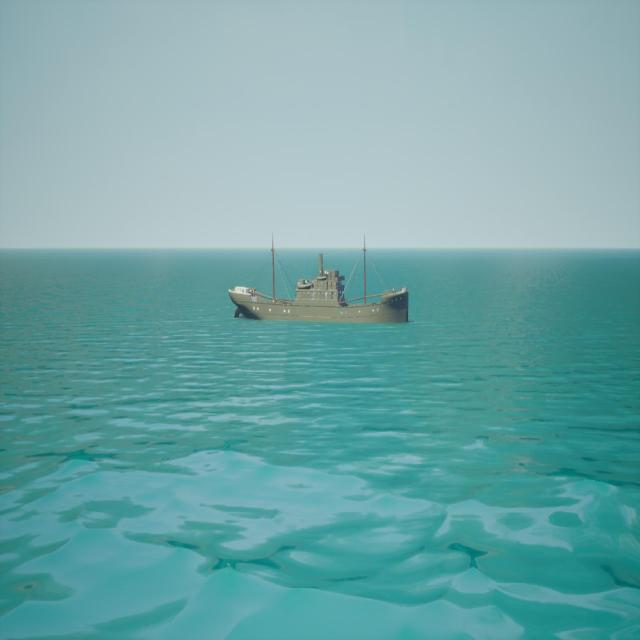fishing ship: (229, 236, 411, 325)
